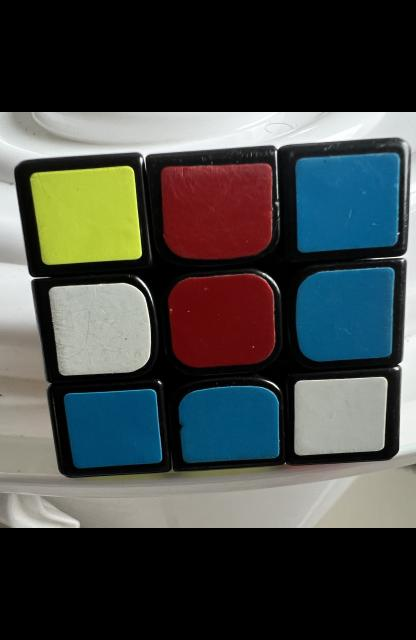Blue: (294, 152, 399, 253), (294, 267, 394, 361), (63, 389, 162, 468), (178, 386, 278, 463)
Red: (159, 163, 272, 259), (167, 273, 274, 368)
White: (48, 283, 150, 375), (293, 376, 387, 455)
Yellow: (29, 166, 142, 265)
